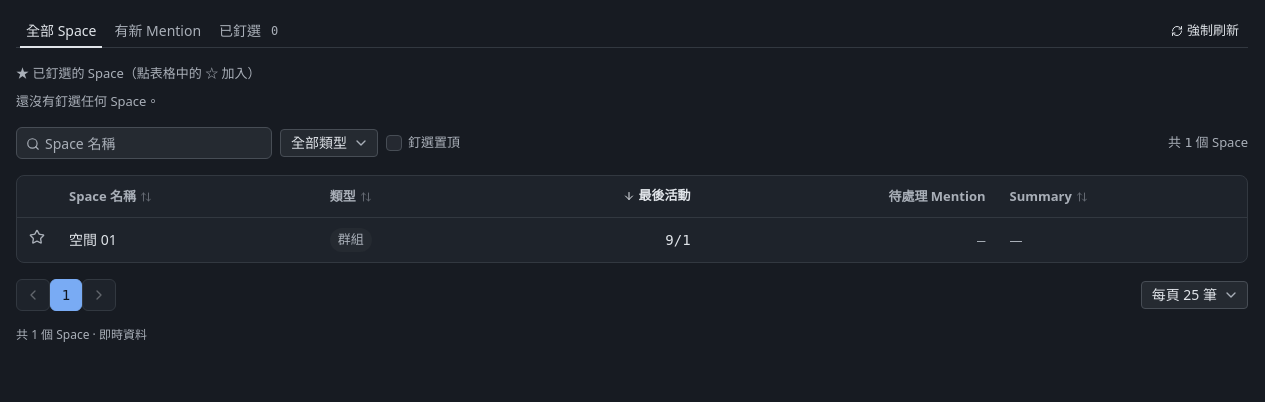
Test: SpacesTable：Mention 欄只顯示拿得到的資料 › 還沒載入（/me 說有 Mention，清單是空的）也是「—」；有新 Mention 分頁說不知道，不說沒有
Check: the 1st cell "—" is shown, box [703,218,998,262]
Click the tab "有新 Mention": (158, 31) [107,18,208,44]
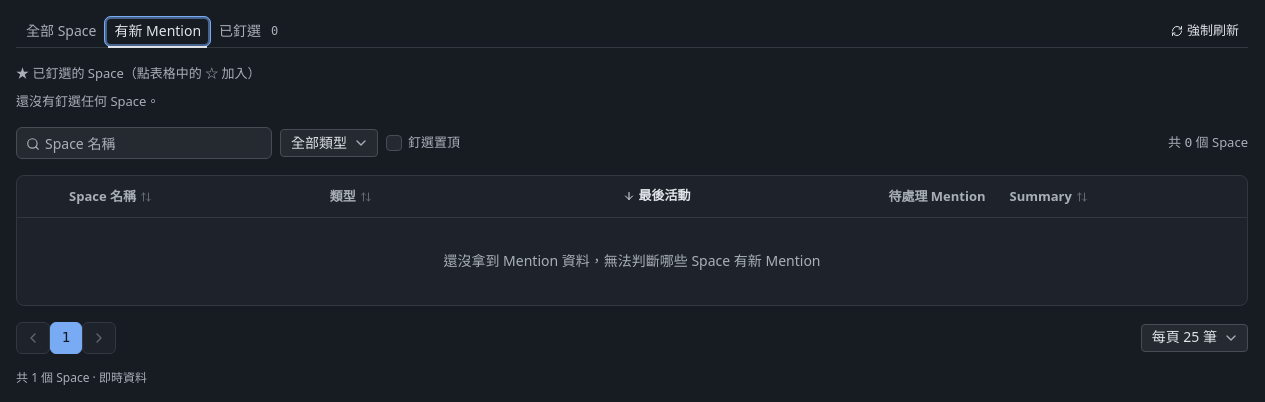
Check: the text "還沒拿到 Mention 資料，無法判斷哪些 Space 有新 Mention" is shown, box [17,218,1247,305]
